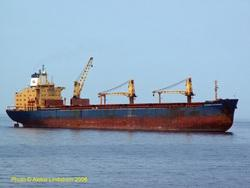Cargoship: (1, 56, 246, 130)
